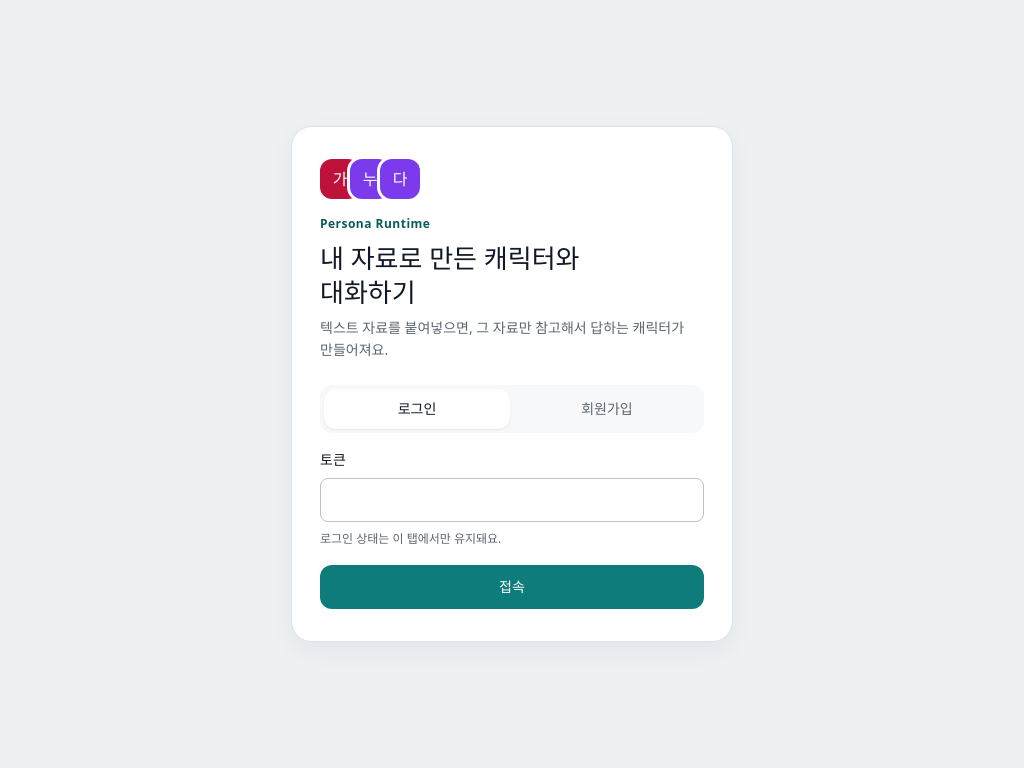
Test: 목록에 없는 캐릭터 주소는 찾을 수 없다고 알린다
The image size is (1024, 768).
Type "synthetic-token" into the password field labelled "토큰" at [512, 500], box [320, 478, 704, 522]
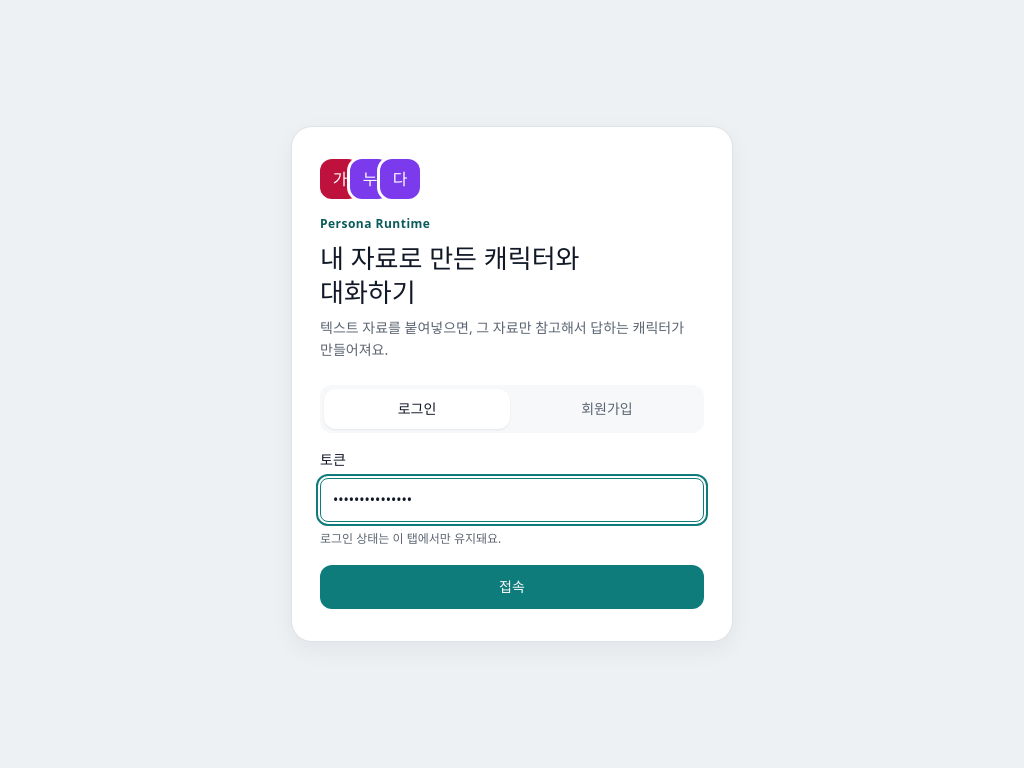
Click the button "접속" at [512, 587], box [320, 565, 704, 609]
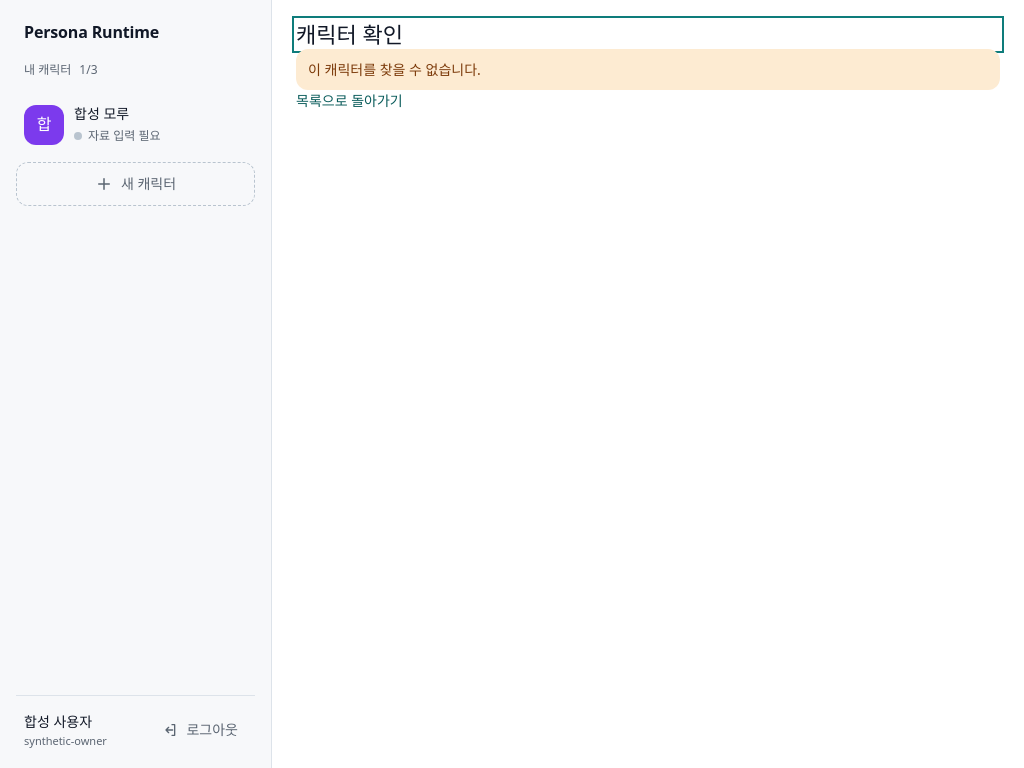
Expected: the heading "내 캐릭터" is shown, [24, 62, 71, 77]
Expected: the text "이 캐릭터를 찾을 수 없습니다." is shown, [296, 49, 1000, 90]
Expected: the link "합 합성 모루 자료 입력 필요" is shown, [24, 104, 160, 144]
